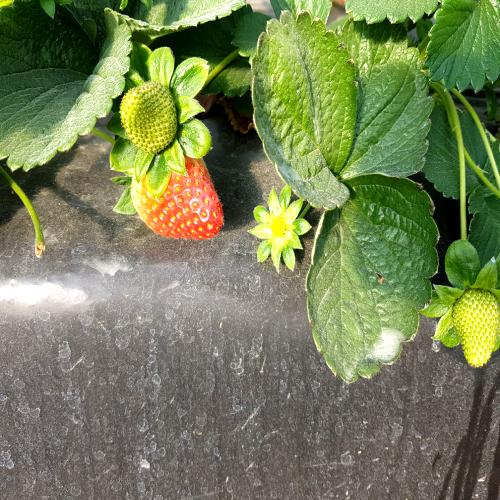partially-ripe: (130, 140, 227, 247)
